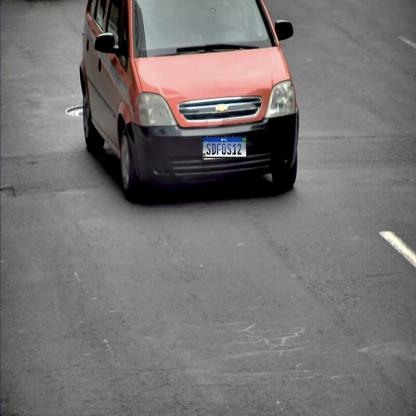PlacaM: (202, 136, 247, 158)
